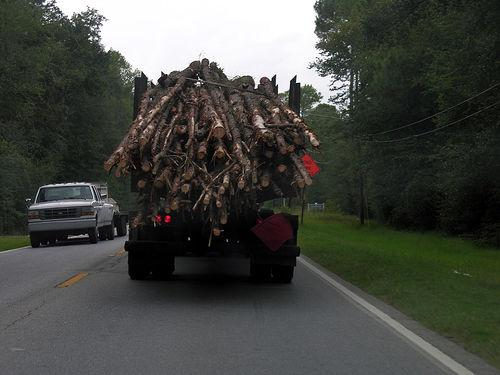truck: (103, 57, 322, 284)
